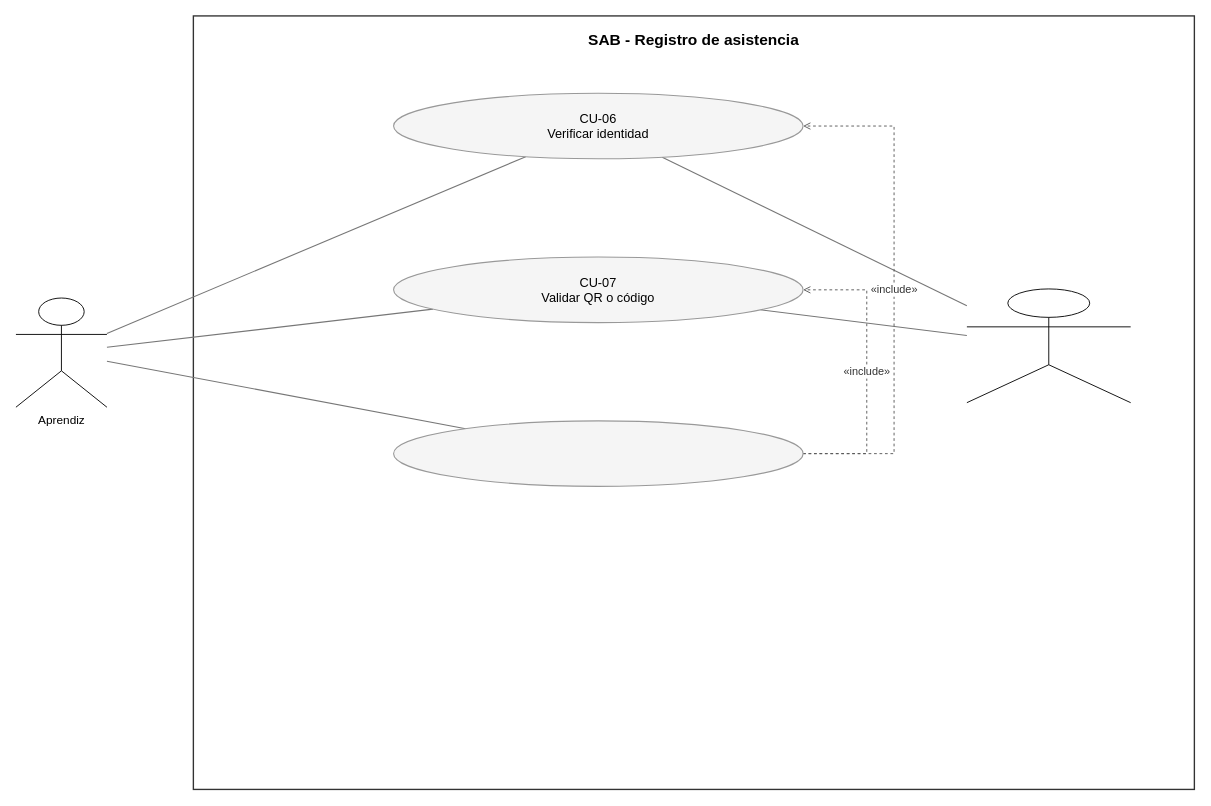
This 1211x806 diagram has some shape labels left out. Each missing label, with the centre of its shape:
"CU-08 Registrar asistencia" belongs at (598,453).
"Servicio de validación" belongs at (1048,345).
